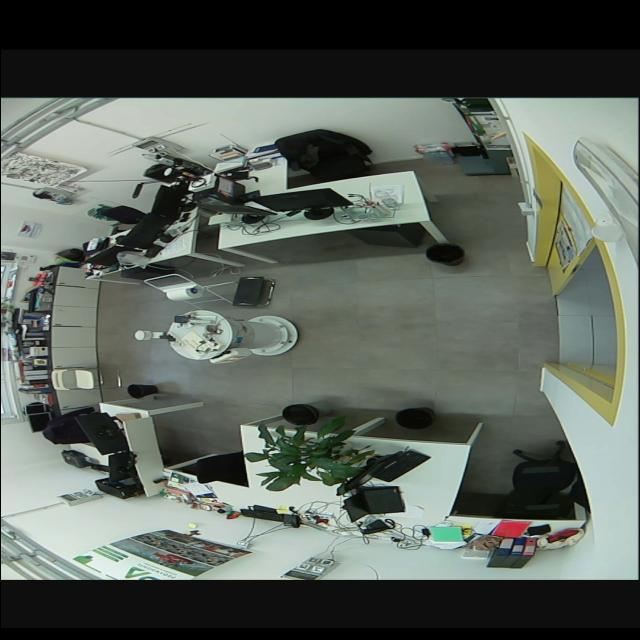Open: (540, 249, 624, 385)
